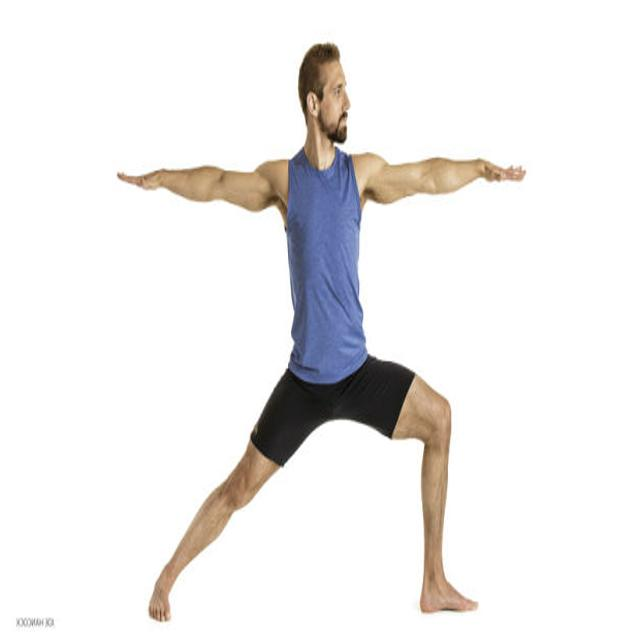Warrior_II: (115, 41, 530, 621)
